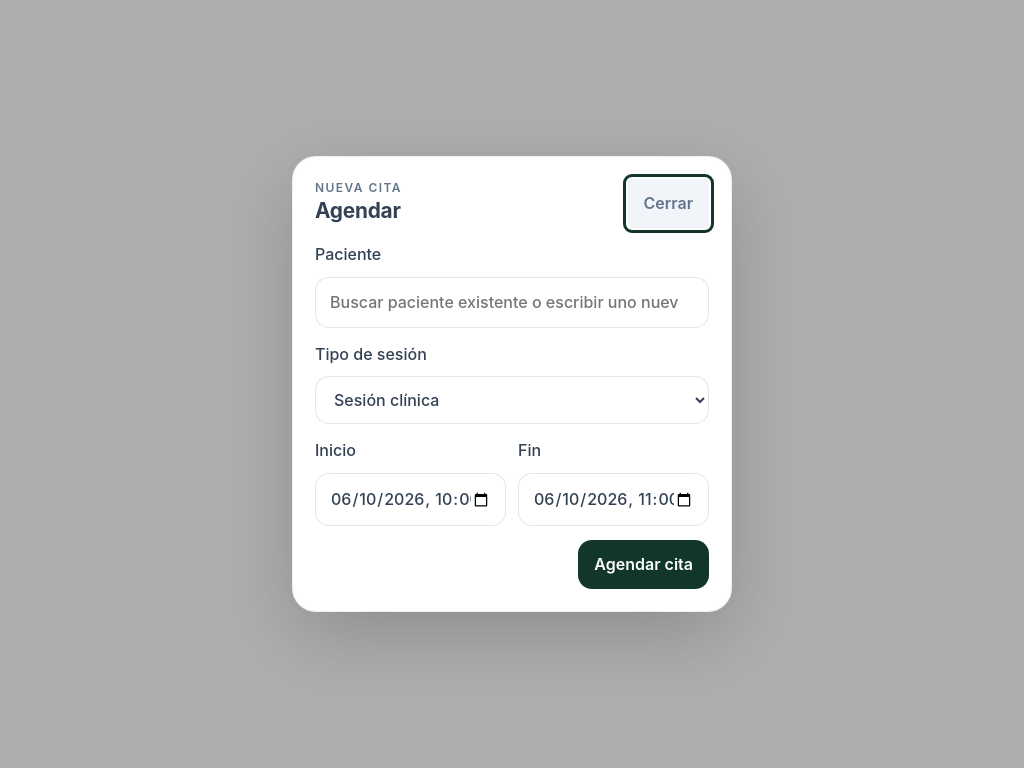
Scenario: AppointmentCreateModal › exige seleccionar un paciente antes de agendar
This screenshot has width=1024, height=768.
What coordinates should you click on to do the following:
click the button "Agendar cita"
I would click on:
 (644, 564)
Its box is [578,540,709,589].
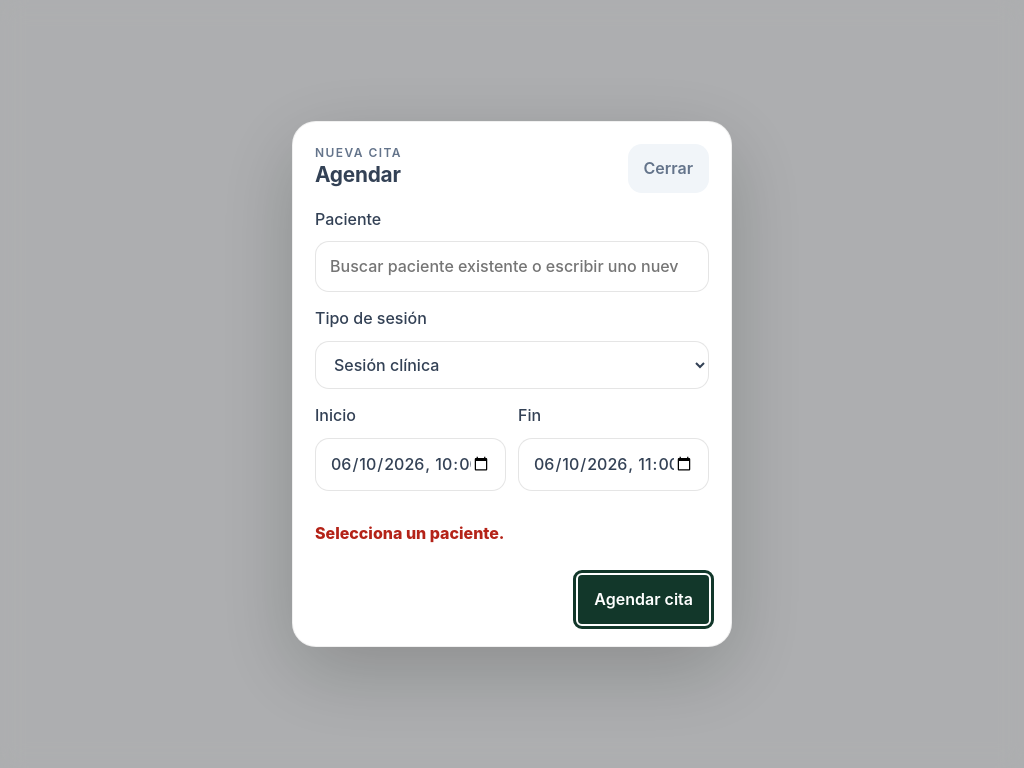
Check: the message shows "Selecciona un paciente", box [315,523,504,543]
